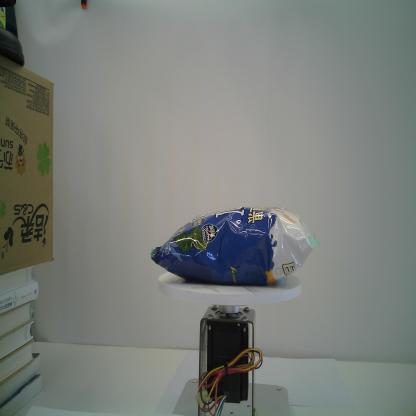Puffed Food: (150, 205, 320, 287)
